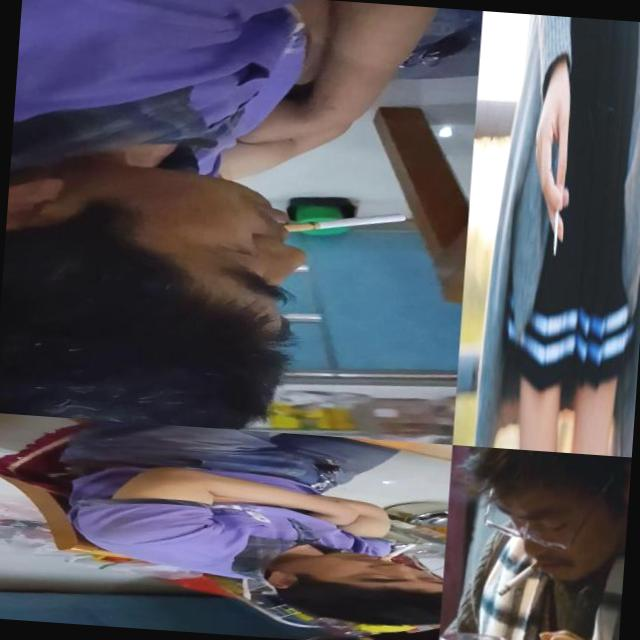cigarette: (282, 206, 406, 240), (487, 551, 552, 602), (379, 541, 417, 563), (552, 203, 560, 257)
